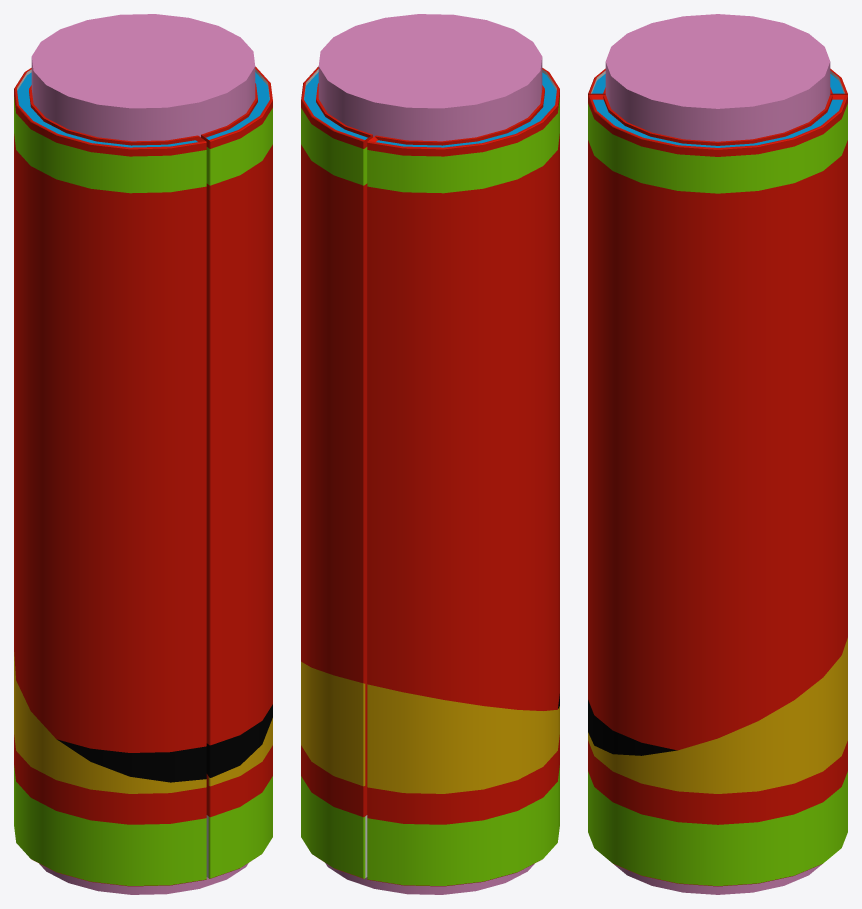
The model's file is Pole_B_02.fbx.
The picture shows the model from 3 angles, left to right: view 1: azimuth 30°, elevation 25°; view 2: azimuth 150°, elevation 25°; view 3: azimuth 270°, elevation 25°; orthographic projection.
Visible parts, largest first — view 1: Pole_B_01; view 2: Pole_B_01; view 3: Pole_B_01.
Boxes of the visible parts, bbox=[...] form: Pole_B_01: bbox=[14, 14, 272, 894]; Pole_B_01: bbox=[301, 14, 559, 894]; Pole_B_01: bbox=[588, 14, 847, 894].
Bounding box in the file's own units: 150 × 500 × 150.
